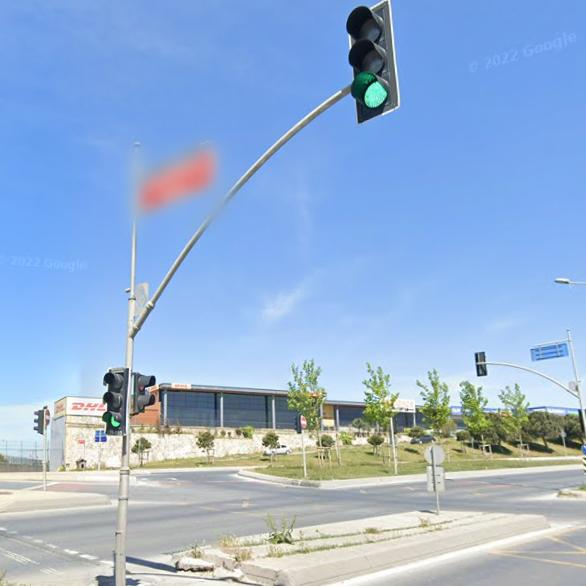greenlight: (348, 16, 396, 109)
